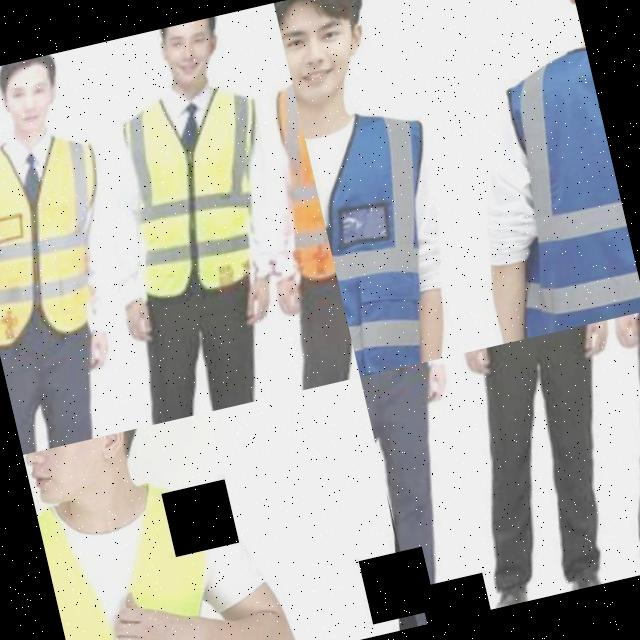vest: (454, 23, 640, 339), (297, 80, 467, 376), (105, 64, 292, 302), (29, 446, 245, 640), (0, 105, 133, 348), (252, 62, 339, 294)
